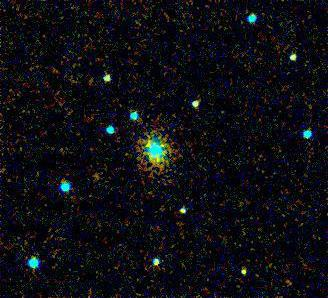star: (231, 259, 261, 289)
